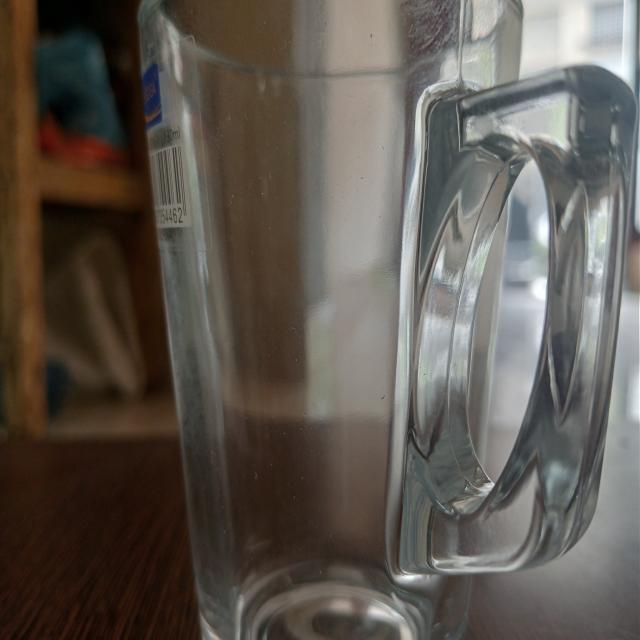glass-VX4N: (134, 0, 627, 640)
